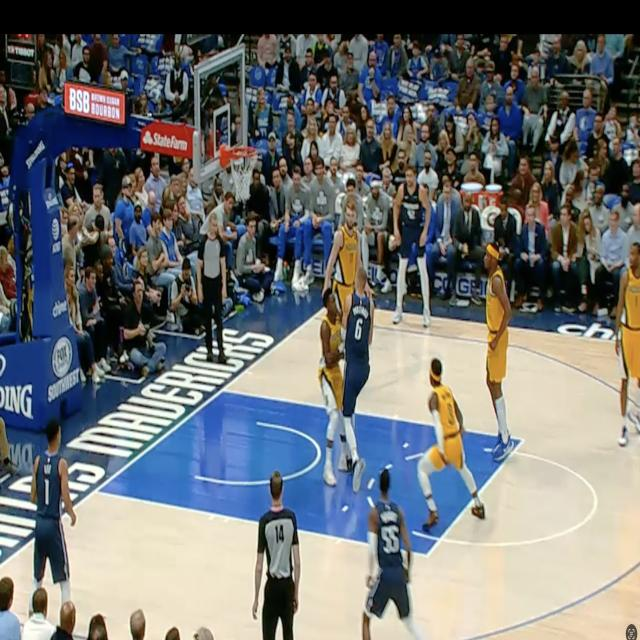foul: (297, 269, 372, 495)
